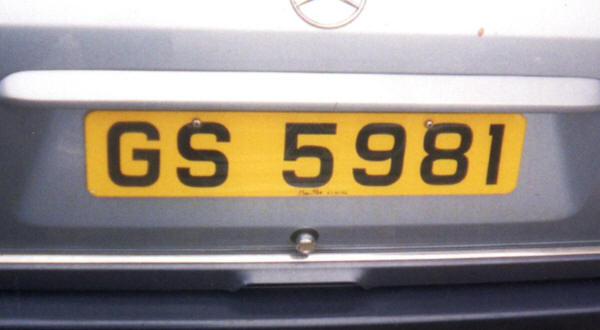license_plate: (84, 109, 527, 196)
